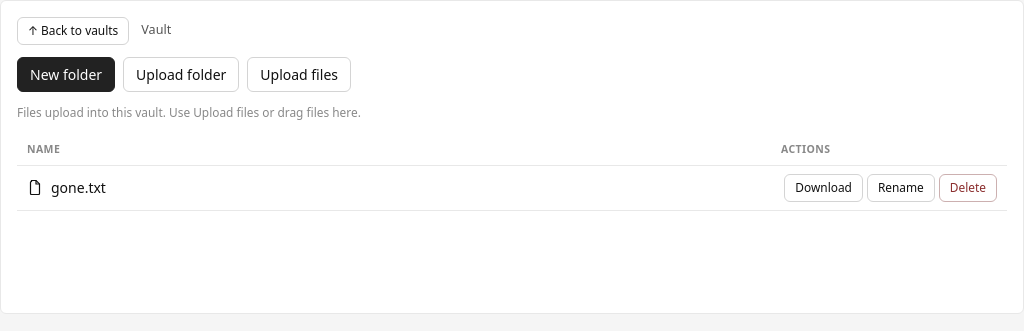
Test: VaultContents mutation identity › removes a deleted file after the refreshed list excludes it
Expected: the row with test id "file-item" shows "gone.txt", [51,178,106,197]
What coordinates should you click on to do the following:
click the button with test id "delete-file"
I would click on:
 (968, 188)
Its box is [939,174,997,202].
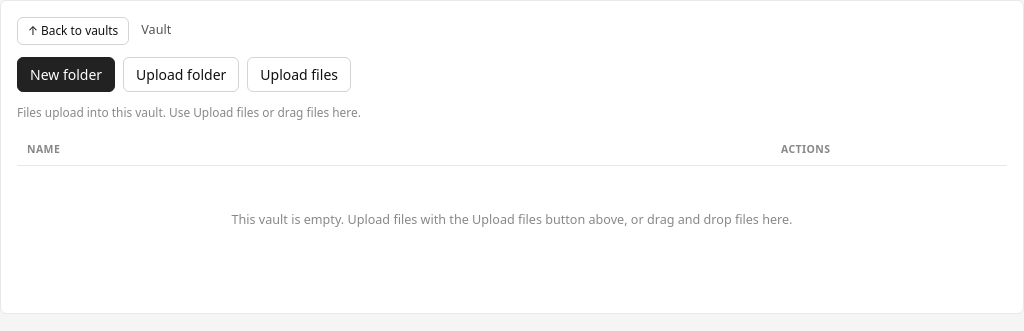
Now the row with test id "file-item" is gone
Now the text with test id "no-files" is shown, box [232,211,792,228]
